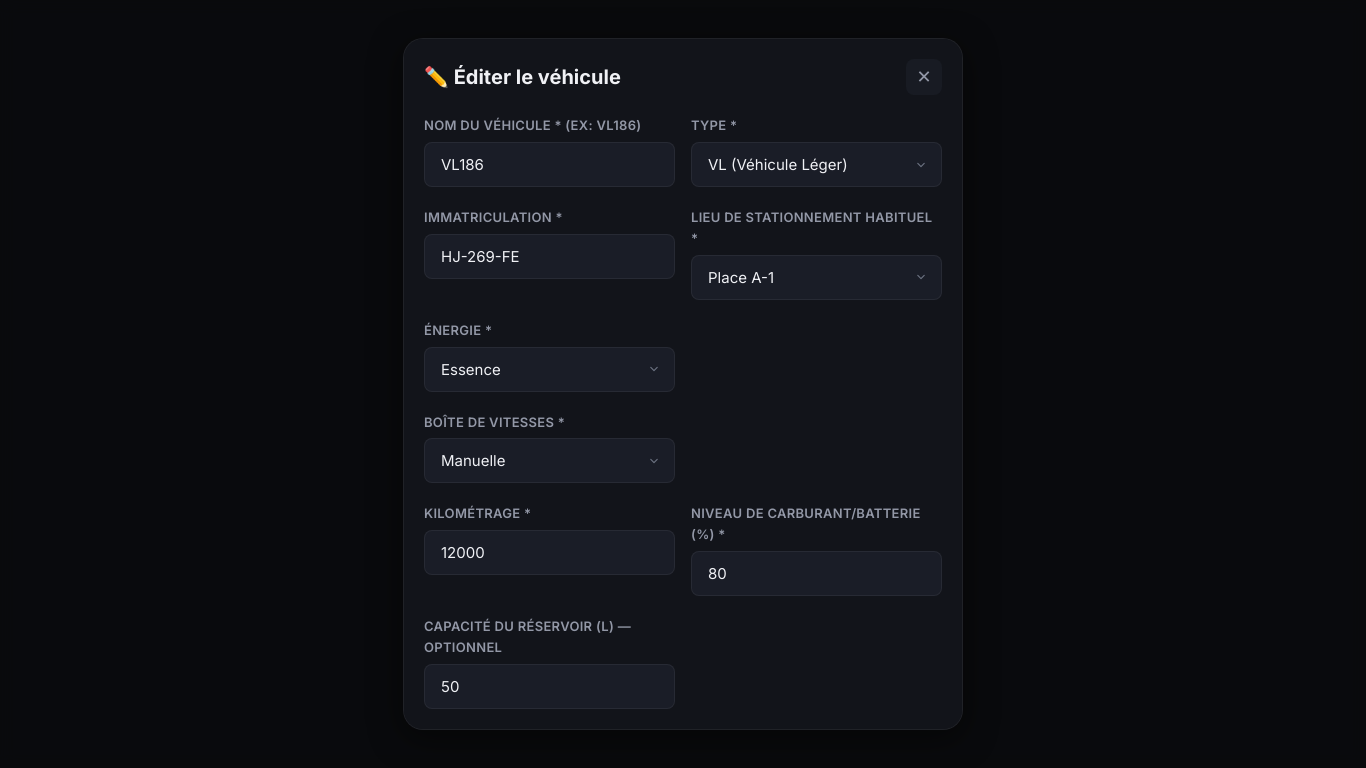
Test case: EditVehicleModal Component › displays error message when API returns error
Replace the text in the field showing "VL186" below "Nom du véhicule * (ex: VL186)" with "VL186-MOD". click: [550, 165]
box: [424,142,675,187]
(page scrolled)
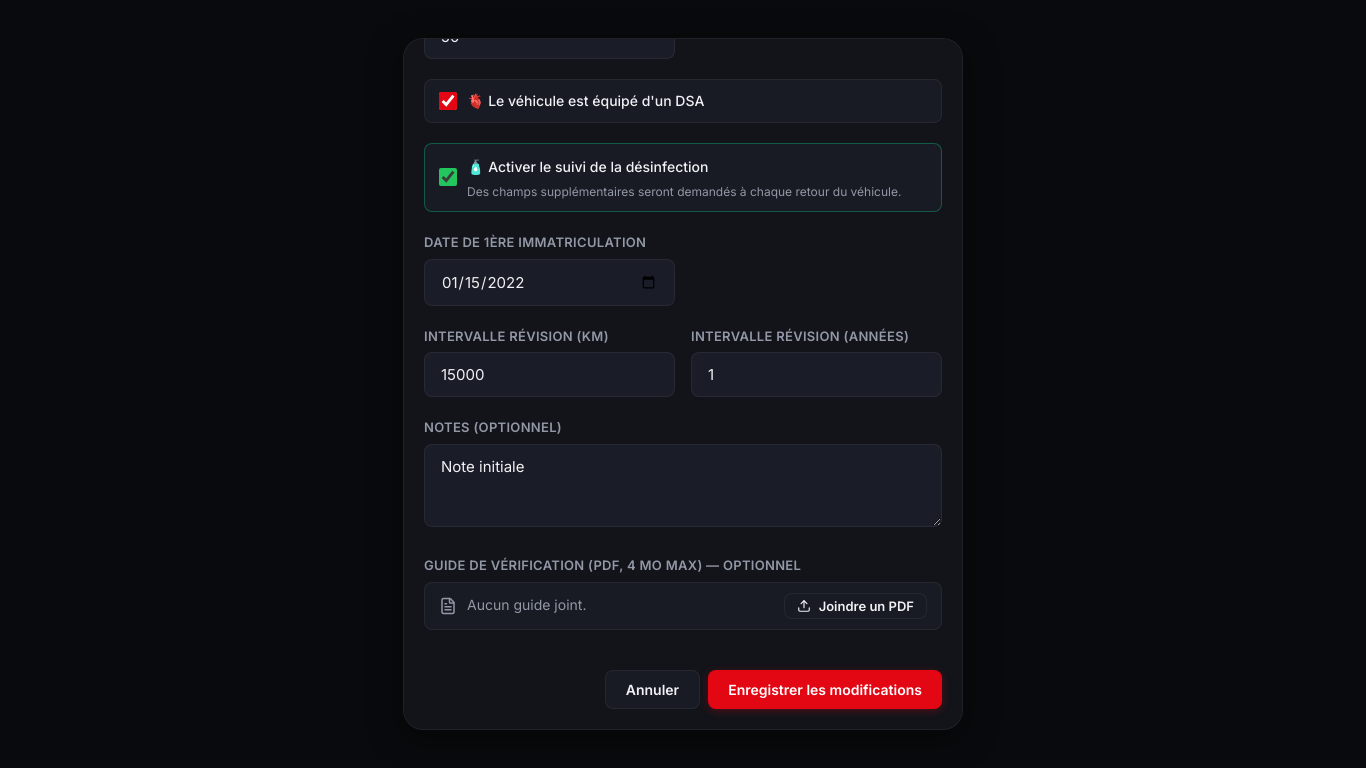
Click the button "Enregistrer les modifications". click: [825, 689]
box: [708,670,942,708]
(page scrolled)
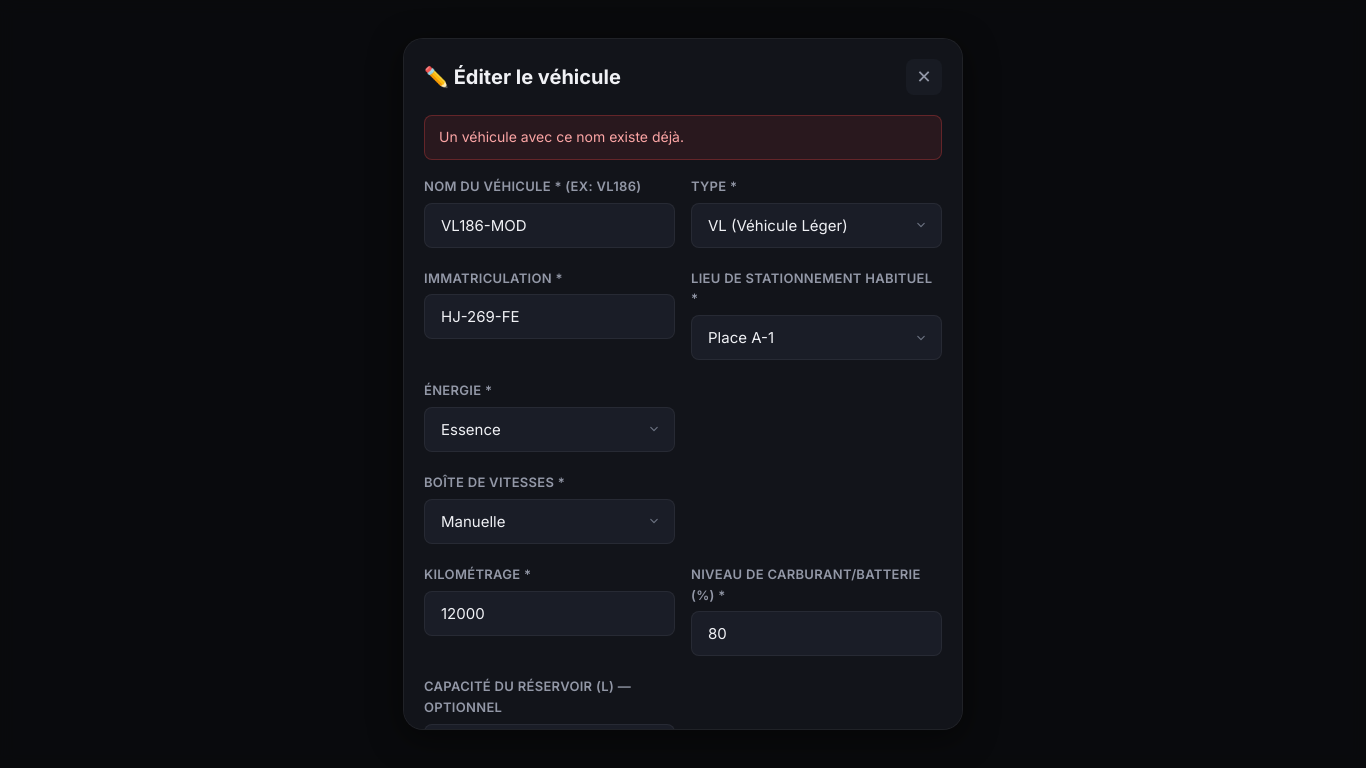
Expected: the text "Un véhicule avec ce nom existe déjà." is shown, [424,115,942,160]
